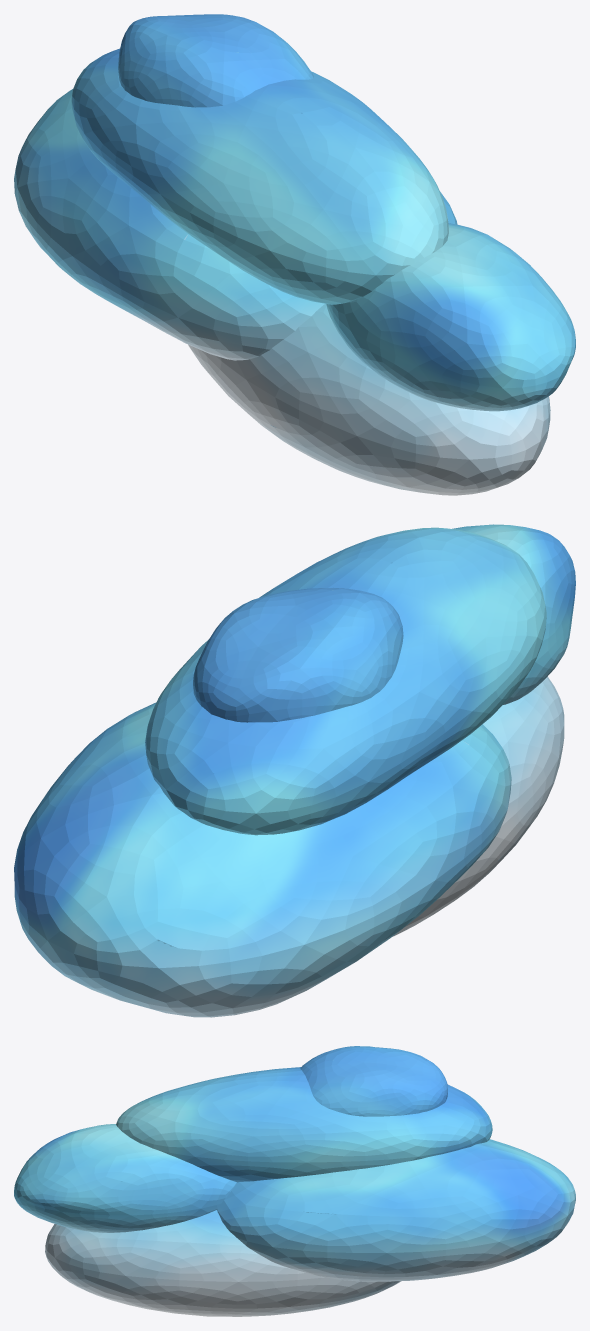
Rendered from Cloud3.fbx.
The picture shows the model from 3 angles, top to bottom: view 1: azimuth 30°, elevation 25°; view 2: azimuth 150°, elevation 25°; view 3: azimuth 270°, elevation 25°; orthographic projection. The views are drawn at different scales.
Parts seen in each view (by area): view 1: Cloud.002; view 2: Cloud.002; view 3: Cloud.002.
Part boxes in pixels (left/top/right/bottom): Cloud.002: left=14, top=14, right=575, bottom=495; Cloud.002: left=14, top=524, right=575, bottom=1017; Cloud.002: left=14, top=1046, right=575, bottom=1316.
Bounding box in the file's own units: 275 × 291 × 634.
